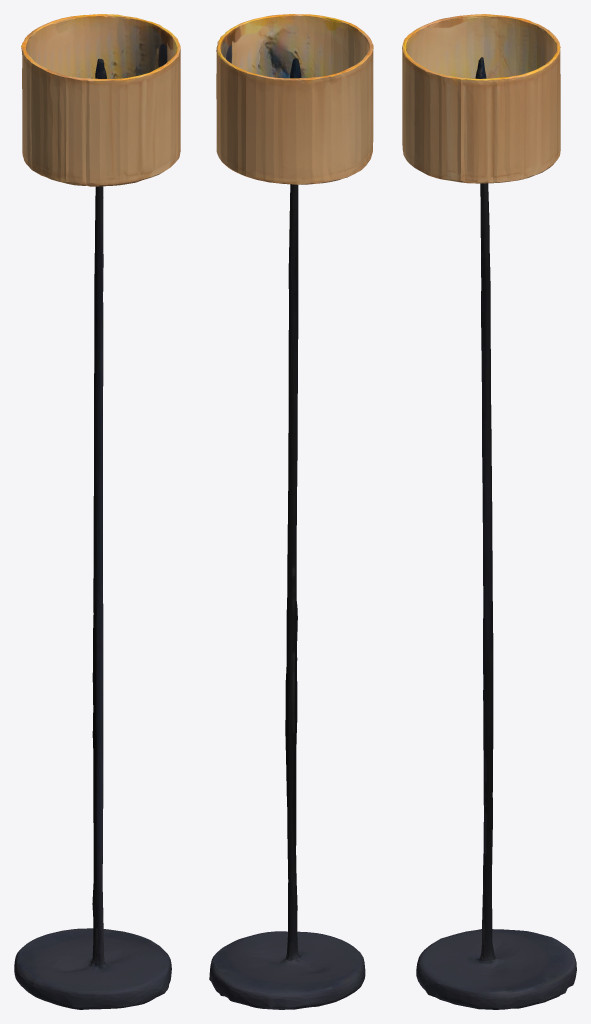
File: Lampara.fbx
The picture shows the model from 3 angles, left to right: view 1: azimuth 30°, elevation 25°; view 2: azimuth 150°, elevation 25°; view 3: azimuth 270°, elevation 25°; orthographic projection.
Parts seen in each view (by area): view 1: tripo_node_97928bdf; view 2: tripo_node_97928bdf; view 3: tripo_node_97928bdf.
Part boxes in pixels (box(x1,y1,x2,y2)): tripo_node_97928bdf: box(14, 14, 180, 1009); tripo_node_97928bdf: box(209, 14, 373, 1009); tripo_node_97928bdf: box(402, 14, 576, 1009).
Bounding box in the file's own units: 0.1535 × 1 × 0.1698.
Materials: 1 (1 with a texture image).
